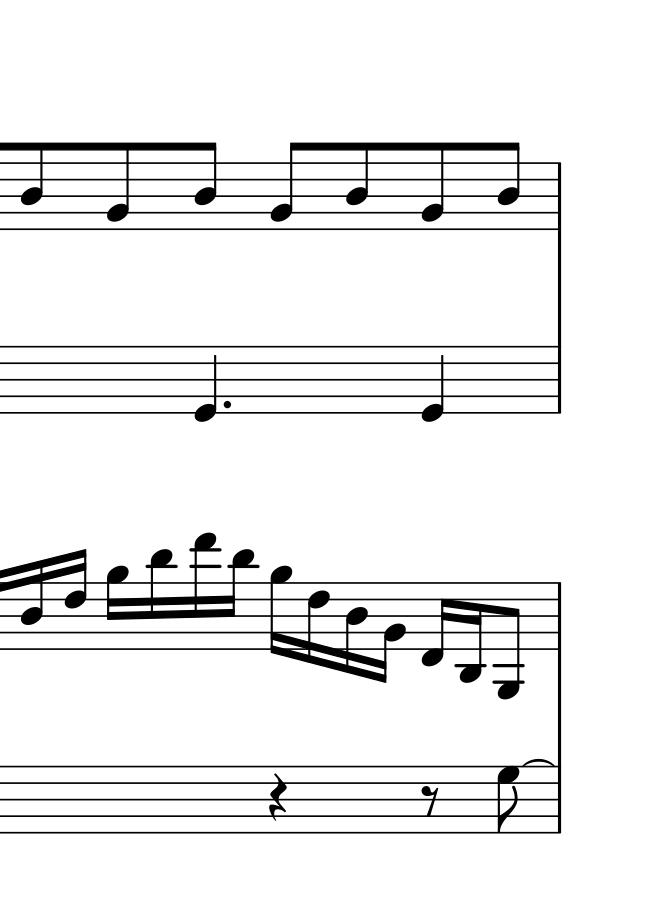16_-3: (457, 583, 484, 684)
16_11: (224, 548, 256, 653), (147, 548, 176, 652)
16_13: (191, 533, 221, 649)
16_2: (375, 582, 405, 684)
16_4: (344, 582, 369, 674), (19, 561, 44, 653)
16_6: (64, 548, 88, 654), (306, 578, 330, 669)
16_9: (269, 565, 292, 658), (105, 567, 128, 647)
4_0: (421, 343, 447, 425), (194, 342, 219, 424)
8_-1: (420, 581, 451, 671)
8_-5: (496, 582, 523, 701)
8_2: (269, 141, 302, 229), (418, 141, 447, 231), (105, 142, 133, 230), (19, 141, 46, 232)
8_4: (344, 142, 371, 233), (193, 141, 219, 233), (496, 141, 521, 232)
8_7: (495, 765, 521, 833)
Rests4: (266, 773, 289, 823)
Rests8: (420, 784, 441, 818)
Single_barline: (551, 163, 567, 228), (551, 768, 567, 831), (551, 347, 566, 412), (552, 582, 566, 650)
Slur: (523, 758, 555, 768)
dot: (220, 398, 233, 410)
